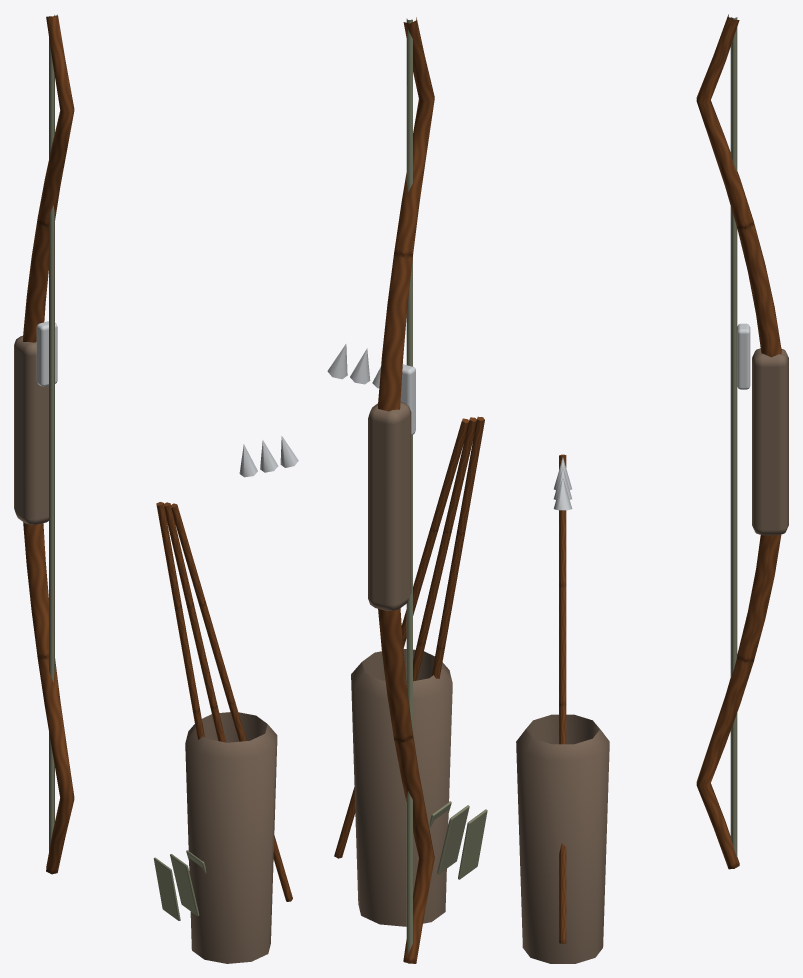
File: fps-survival-forest-outpost-weapon-recurve-bow-5c7b8abf__32656.glb
The picture shows the model from 3 angles, left to right: view 1: azimuth 30°, elevation 25°; view 2: azimuth 150°, elevation 25°; view 3: azimuth 270°, elevation 25°; orthographic projection. The views are drawn at different scales.
Parts seen in each view (by area): view 1: weapon-recurve-bow; view 2: weapon-recurve-bow; view 3: weapon-recurve-bow.
Part boxes in pixels (bbox=[...]): weapon-recurve-bow: bbox=[14, 14, 298, 963]; weapon-recurve-bow: bbox=[327, 17, 487, 963]; weapon-recurve-bow: bbox=[516, 14, 788, 963].
Size of the model in its own units: 0.2966 by 1.46 by 0.4075.
4 materials, 1 textured.
